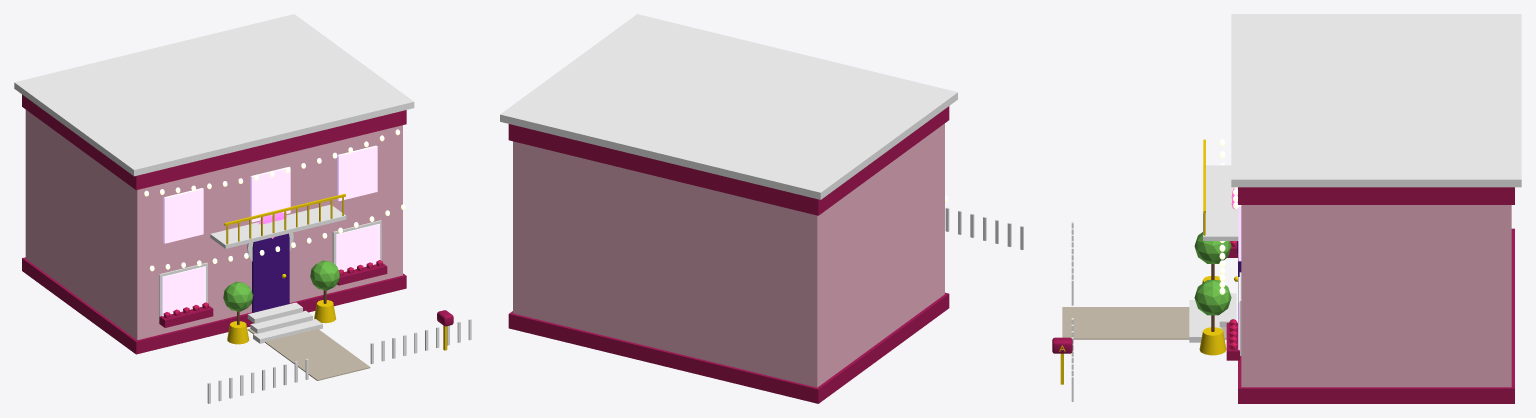
The model's file is journey_avigail_house.glb.
The picture shows the model from 3 angles, left to right: view 1: azimuth 30°, elevation 25°; view 2: azimuth 150°, elevation 25°; view 3: azimuth 270°, elevation 25°; orthographic projection. The views are drawn at different scales.
Visible parts, largest first — view 1: AviHouse_body; view 2: AviHouse_body; view 3: AviHouse_body.
Boxes of the visible parts, x1,y1,x2,y2 form: AviHouse_body: (14,14,471,403); AviHouse_body: (500,14,1023,403); AviHouse_body: (1052,14,1521,403).
Bounding box in the file's own units: 11.6 × 7.43 × 13.9.
